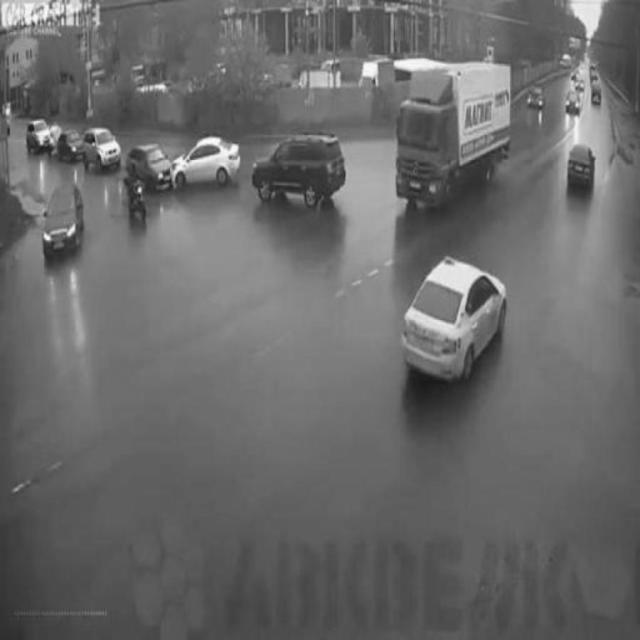accident: (125, 137, 237, 193)
vehicle: (395, 64, 507, 201), (403, 251, 509, 381), (252, 137, 345, 210), (42, 181, 86, 248), (79, 128, 124, 170), (124, 161, 152, 227), (565, 142, 597, 192)
